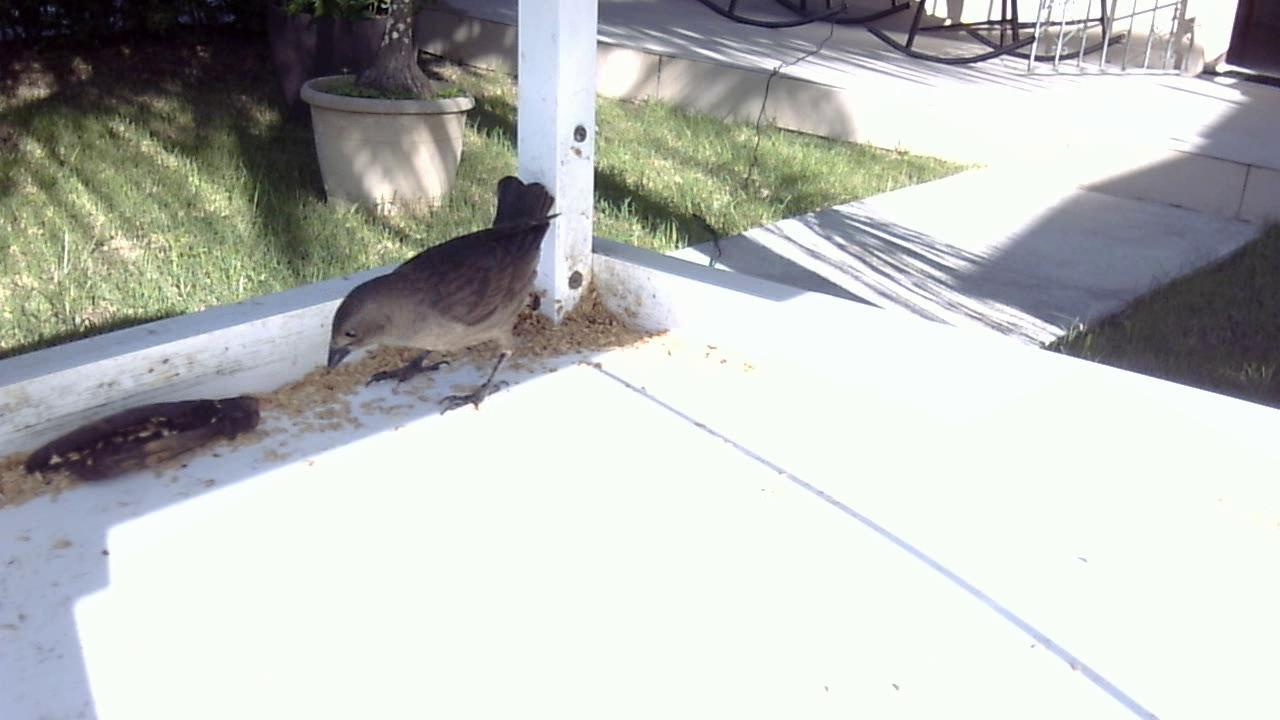chupim: (324, 165, 570, 434)
